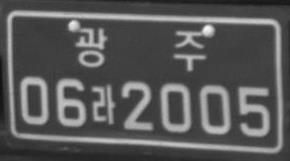0: (160, 82, 192, 134), (199, 84, 231, 134), (19, 75, 49, 125)
2: (121, 80, 153, 131)
5: (237, 84, 271, 138)
6: (55, 77, 87, 127)
광주_D: (74, 27, 206, 71)
라: (91, 83, 115, 125)
